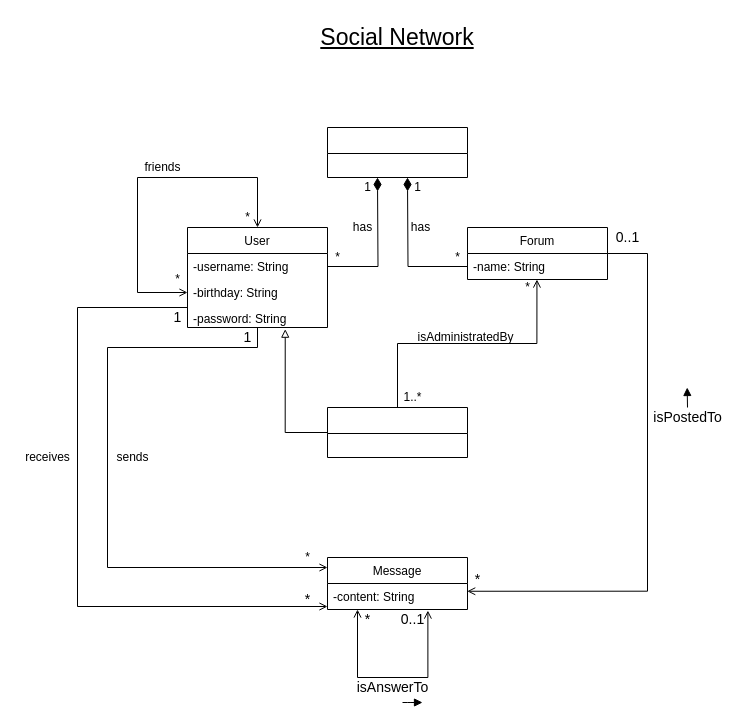
Some shapes in this 744 by 728 pixel diagram are drawn without their labels. The centre of each missing label's shape, as x and y in pixels:
"Administrator" belongs at point 397,432.
"Plattform" belongs at point 397,152.
